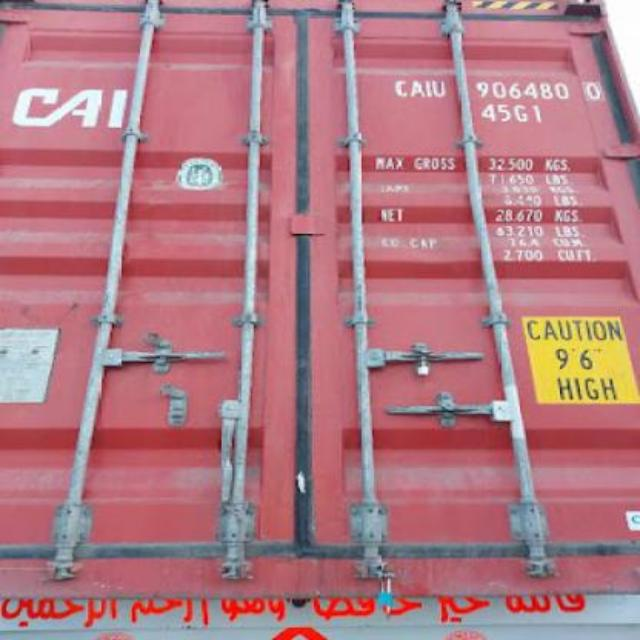0: (490, 80, 508, 100), (554, 81, 570, 101), (584, 83, 600, 101)
4: (524, 81, 540, 101)
6: (506, 81, 526, 102)
8: (536, 81, 554, 102)
9: (472, 80, 490, 100)
A: (411, 78, 424, 98)
C: (392, 80, 412, 96)
I: (424, 78, 432, 100)
U: (430, 78, 446, 98)
